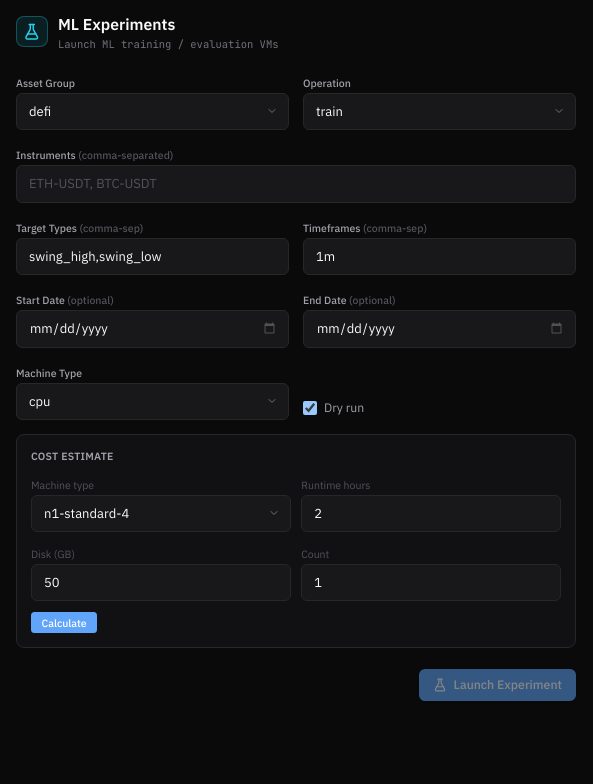
Test: MlExperiments › dismisses result panel on dismiss click
In the field with test id "instruments-input": (296,184) [16, 165, 576, 202], type "ETH-USDT"
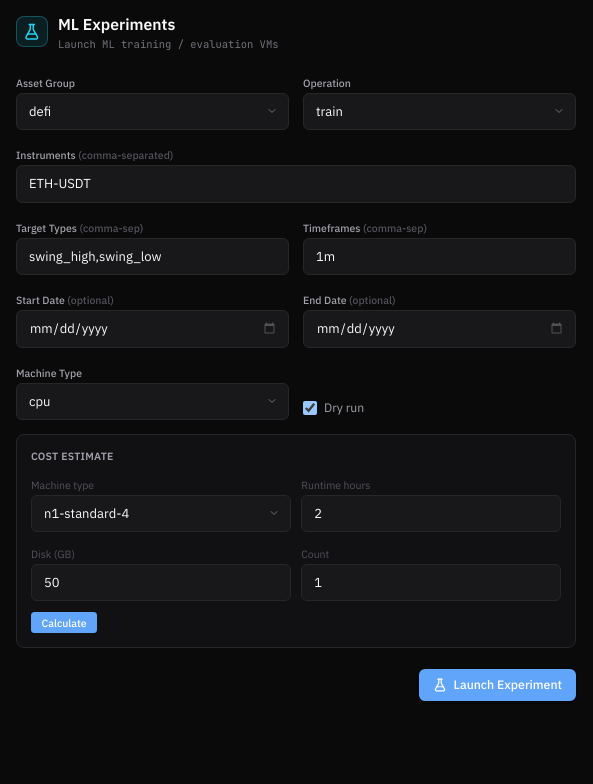
Click the button with test id "launch-button": (497,685) [419, 669, 576, 700]
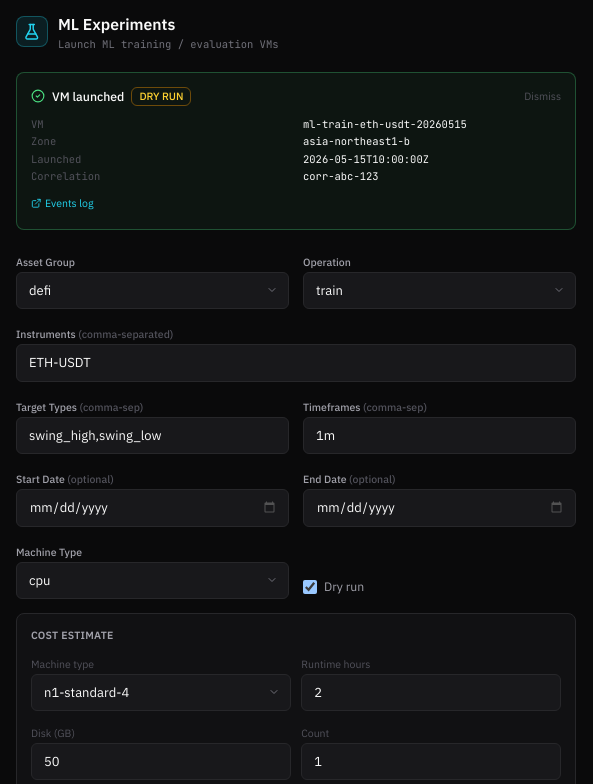
Expected: the element with test id "launch-result" is shown, [16, 72, 576, 230]
Click the button "Dismiss": (543,96) [524, 89, 561, 103]
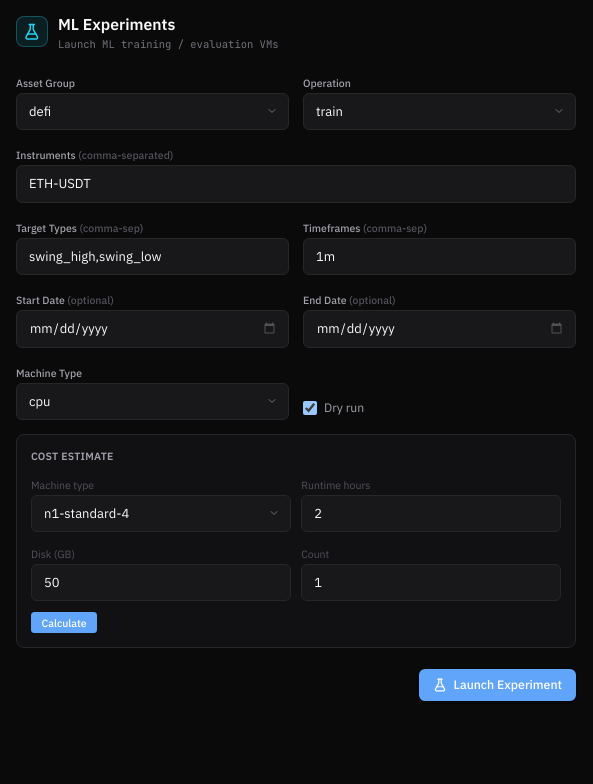
Expected: the element with test id "launch-result" is gone
